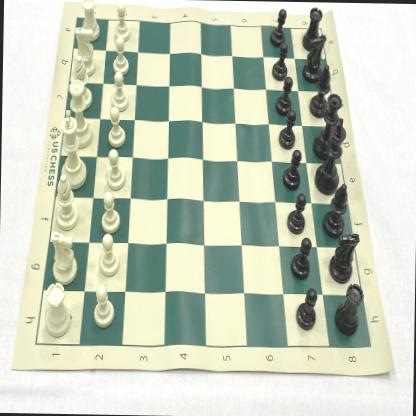black-bishop: (323, 183, 348, 236), (309, 64, 332, 118)
black-king: (313, 116, 347, 196)
black-knight: (328, 232, 359, 284), (302, 34, 326, 84)
black-pawn: (296, 287, 318, 330), (290, 238, 312, 278), (286, 194, 308, 234), (273, 76, 293, 116), (282, 150, 301, 190), (278, 110, 296, 150), (271, 42, 289, 81), (270, 6, 287, 46)
black-queen: (312, 91, 344, 160)
black-rook: (334, 282, 364, 334), (302, 8, 322, 51)
white-bishop: (52, 172, 78, 230), (70, 55, 92, 110)
white-king: (58, 109, 87, 190)
white-knight: (49, 229, 78, 285), (72, 26, 96, 76)
white-pawn: (93, 281, 115, 328), (102, 148, 126, 190), (98, 232, 120, 277), (98, 191, 121, 233), (105, 106, 127, 147), (109, 71, 128, 112), (109, 37, 129, 75), (110, 3, 129, 40)
white-queen: (66, 78, 94, 148)
white-rook: (40, 281, 72, 339), (79, 0, 100, 42)
